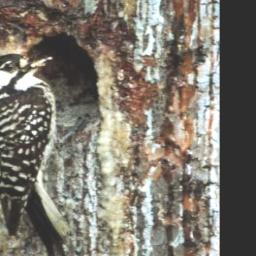Woodpecker: (0, 50, 74, 256)
